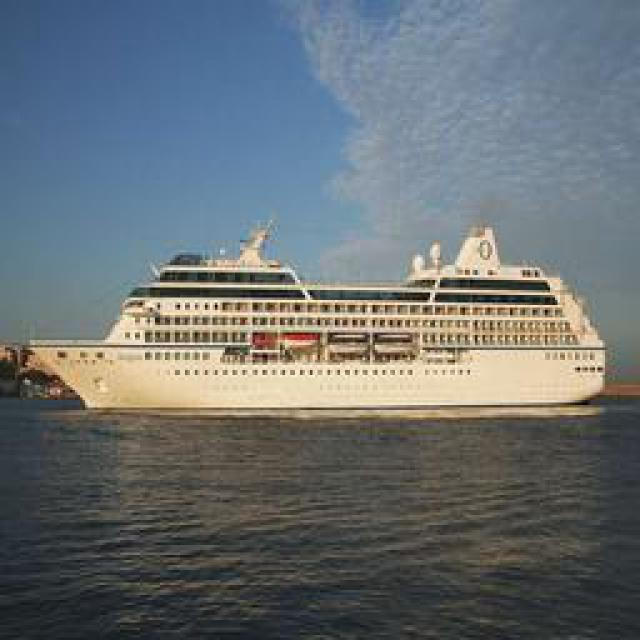Ship: (16, 215, 601, 418)
